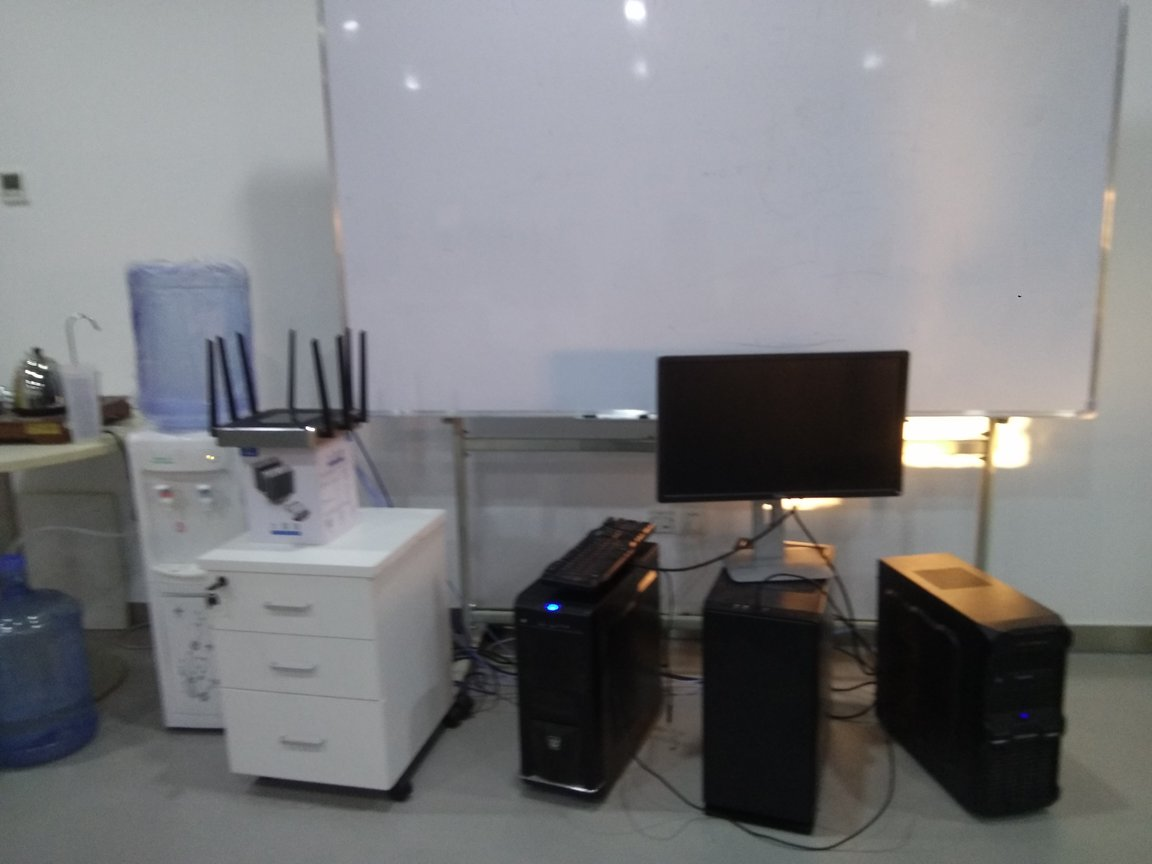computer: (876, 550, 1073, 826), (518, 538, 675, 821), (705, 535, 845, 845)
drawer chest: (200, 502, 475, 805)
monitor: (655, 344, 919, 586)
scuttlebutt: (118, 258, 274, 450), (1, 544, 109, 777)
water dispenser: (120, 418, 307, 743)
